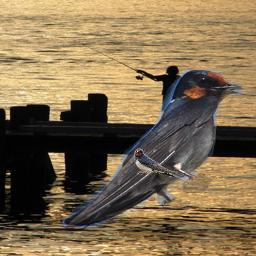Swallow: (62, 69, 243, 228), (134, 148, 189, 181)
